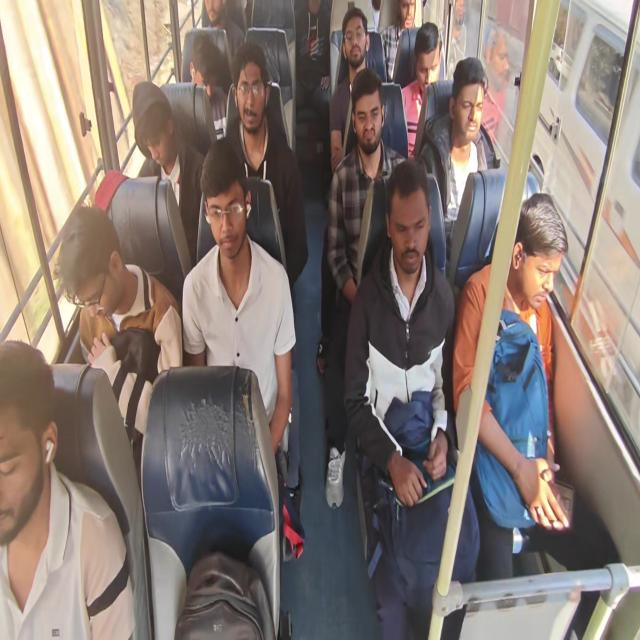person: (0, 330, 62, 545), (509, 193, 575, 312), (68, 206, 130, 321), (207, 152, 252, 265), (385, 181, 431, 277), (456, 56, 488, 150), (135, 83, 166, 172), (410, 30, 446, 98), (238, 65, 268, 137), (189, 36, 223, 90), (357, 87, 384, 145), (343, 12, 368, 66), (203, 0, 229, 28), (395, 1, 416, 34)
